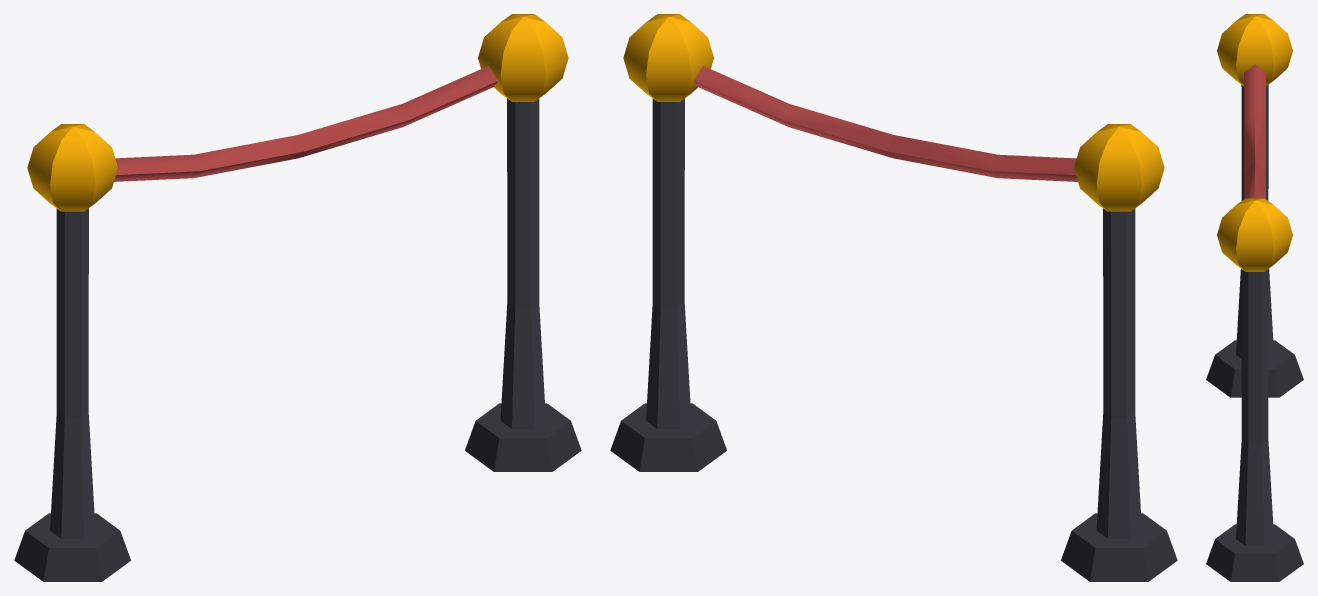
The model's file is security_rope.glb.
3 views of the same model, side by side, from view 1: azimuth 30°, elevation 25°; view 2: azimuth 150°, elevation 25°; view 3: azimuth 270°, elevation 25° (orthographic). The views are drawn at different scales.
Visible parts, largest first — view 1: Object_6, Object_5, Object_2, Object_8, Object_7, Object_4, Object_3; view 2: Object_6, Object_5, Object_2, Object_8, Object_7, Object_4, Object_3; view 3: Object_5, Object_7, Object_8, Object_3, Object_2, Object_4, Object_6.
Part boxes in pixels (x1=…): Object_6: x1=50, y1=208, x2=95, y2=538; Object_5: x1=500, y1=98, x2=545, y2=428; Object_2: x1=114, y1=66, x2=497, y2=181; Object_8: x1=27, y1=124, x2=117, y2=211; Object_7: x1=478, y1=14, x2=568, y2=101; Object_4: x1=14, y1=513, x2=130, y2=581; Object_3: x1=465, y1=403, x2=581, y2=471; Object_6: x1=1096, y1=208, x2=1141, y2=538; Object_5: x1=646, y1=98, x2=691, y2=428; Object_2: x1=694, y1=66, x2=1077, y2=181; Object_8: x1=1074, y1=124, x2=1164, y2=211; Object_7: x1=623, y1=14, x2=713, y2=101; Object_4: x1=1061, y1=513, x2=1177, y2=581; Object_3: x1=610, y1=403, x2=726, y2=471; Object_5: x1=1236, y1=269, x2=1273, y2=545; Object_7: x1=1217, y1=198, x2=1292, y2=271; Object_8: x1=1217, y1=14, x2=1292, y2=85; Object_3: x1=1206, y1=524, x2=1303, y2=581; Object_2: x1=1244, y1=64, x2=1265, y2=198; Object_4: x1=1206, y1=340, x2=1303, y2=397; Object_6: x1=1236, y1=85, x2=1273, y2=358.
Bounding box in the file's own units: 4.48 × 3.45 × 0.843.
